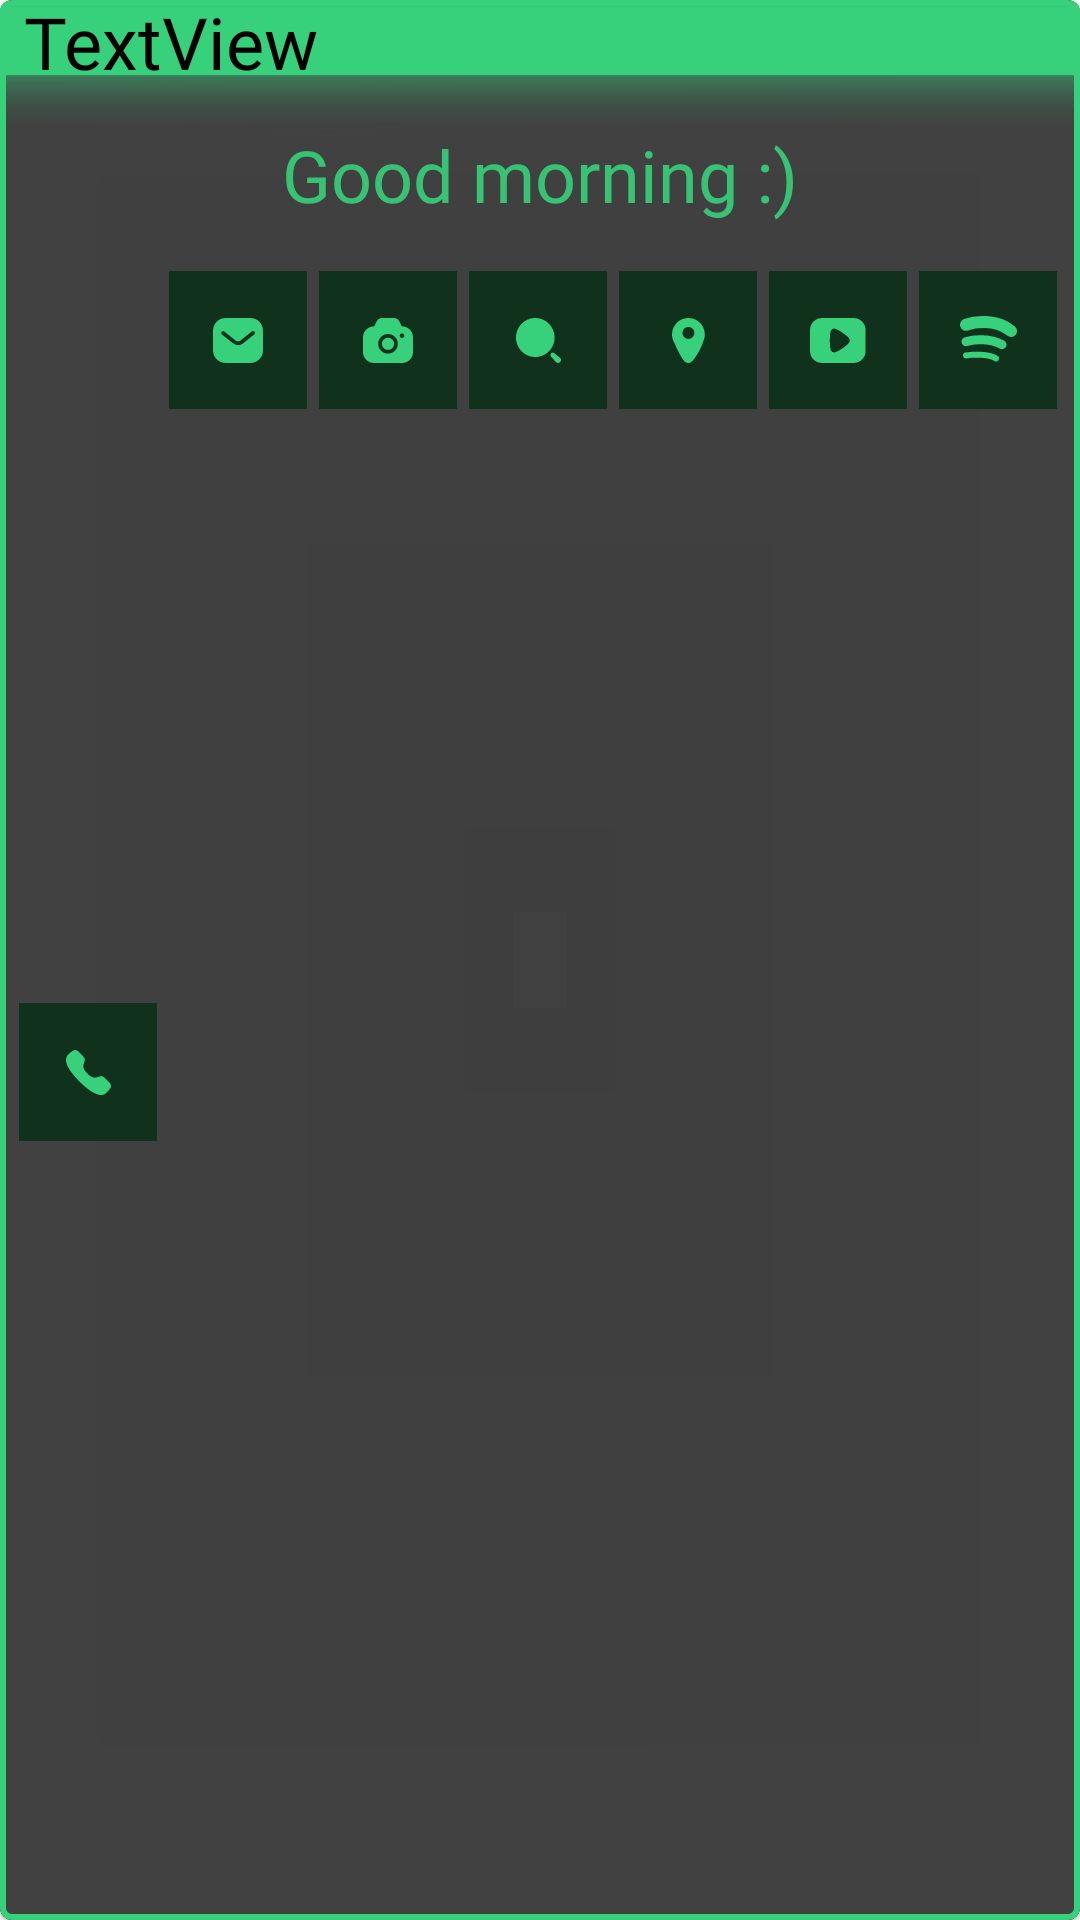

Locate icon controls on the screen. Image size 1080x1920, boxes as (x1, y1, x2, y2).
camera: (319, 271, 457, 409)
map: (619, 271, 757, 409)
phone: (19, 1003, 157, 1141)
